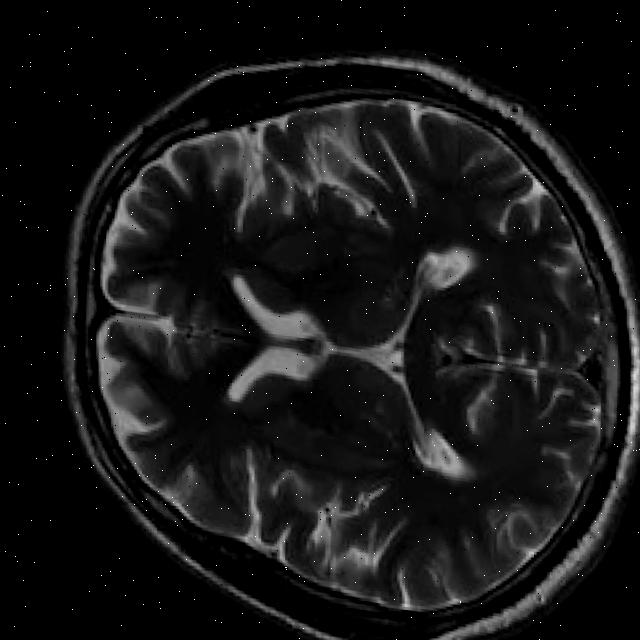NoTumor: (21, 1, 640, 640)
